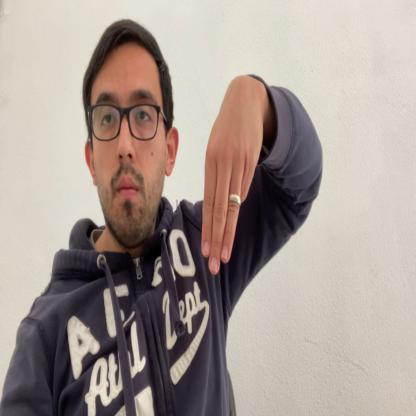M: (202, 95, 263, 276)
